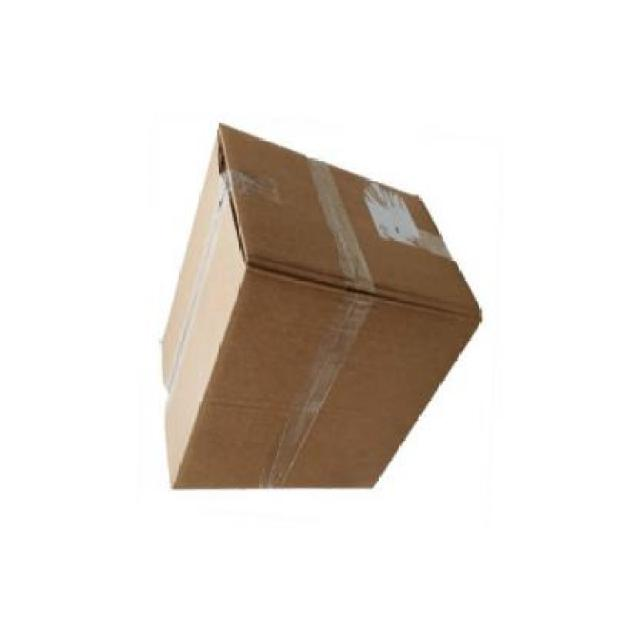cardboxes: (165, 118, 484, 491)
